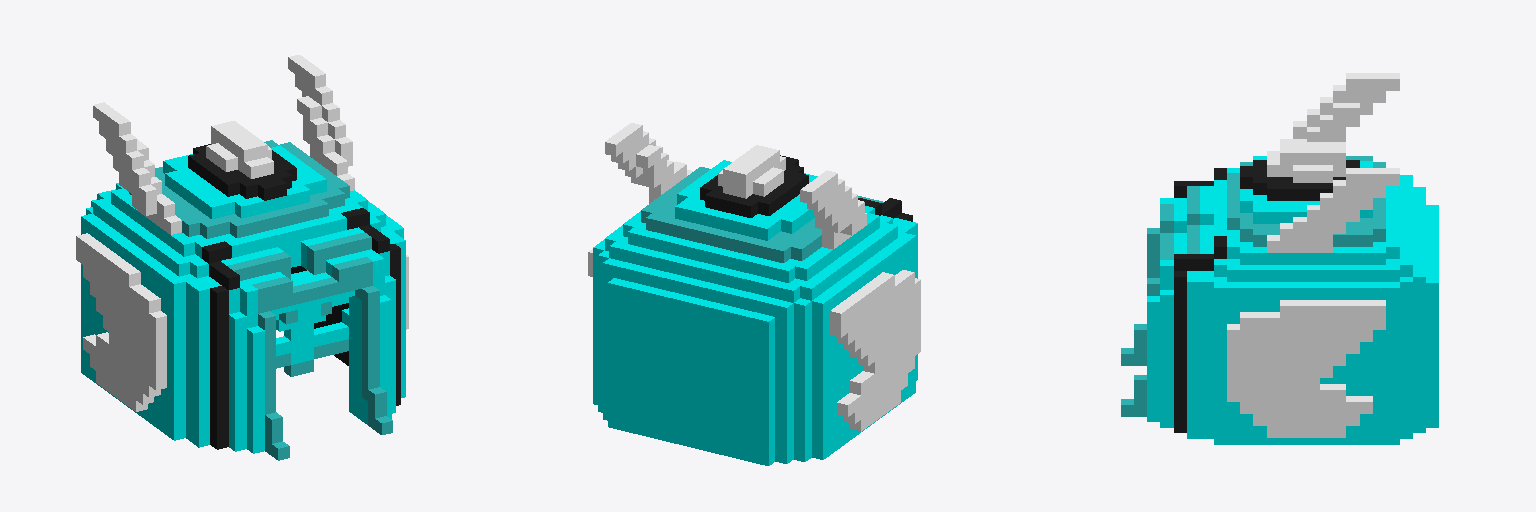
3 renders of one model, left to right at view 1: azimuth 30°, elevation 25°; view 2: azimuth 150°, elevation 25°; view 3: azimuth 270°, elevation 25°, orthographic.
Visible parts, largest first — view 1: object 1; view 2: object 1; view 3: object 1.
Part boxes in pixels (bbox=[...]): object 1: bbox=[76, 55, 408, 460]; object 1: bbox=[588, 123, 920, 465]; object 1: bbox=[1121, 73, 1438, 444].
Bounding box in the file's own units: 2.2 × 2.2 × 2.4.
Materials: 1 (1 with a texture image).